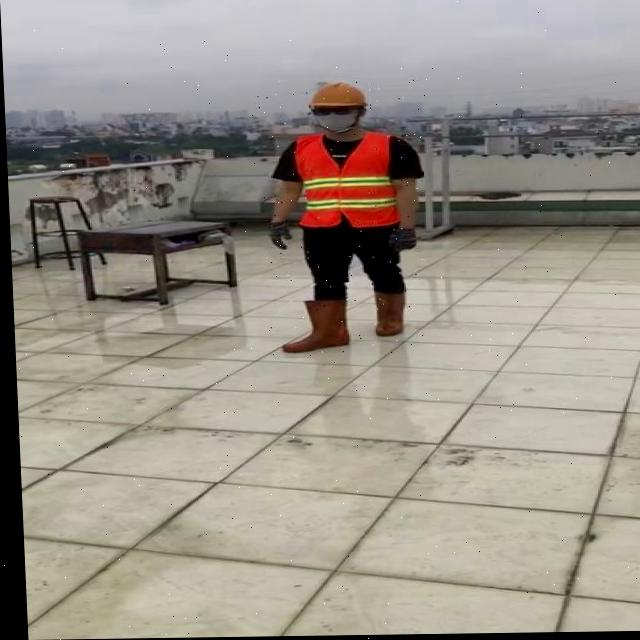Gloves: (385, 227, 416, 253), (267, 222, 291, 250)
Safety-Boot: (278, 299, 347, 353), (371, 289, 405, 337)
Safety-Vest: (292, 131, 401, 231)
